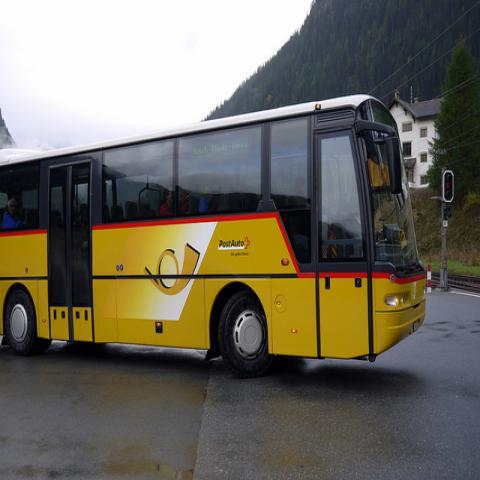bus: (1, 98, 429, 372)
